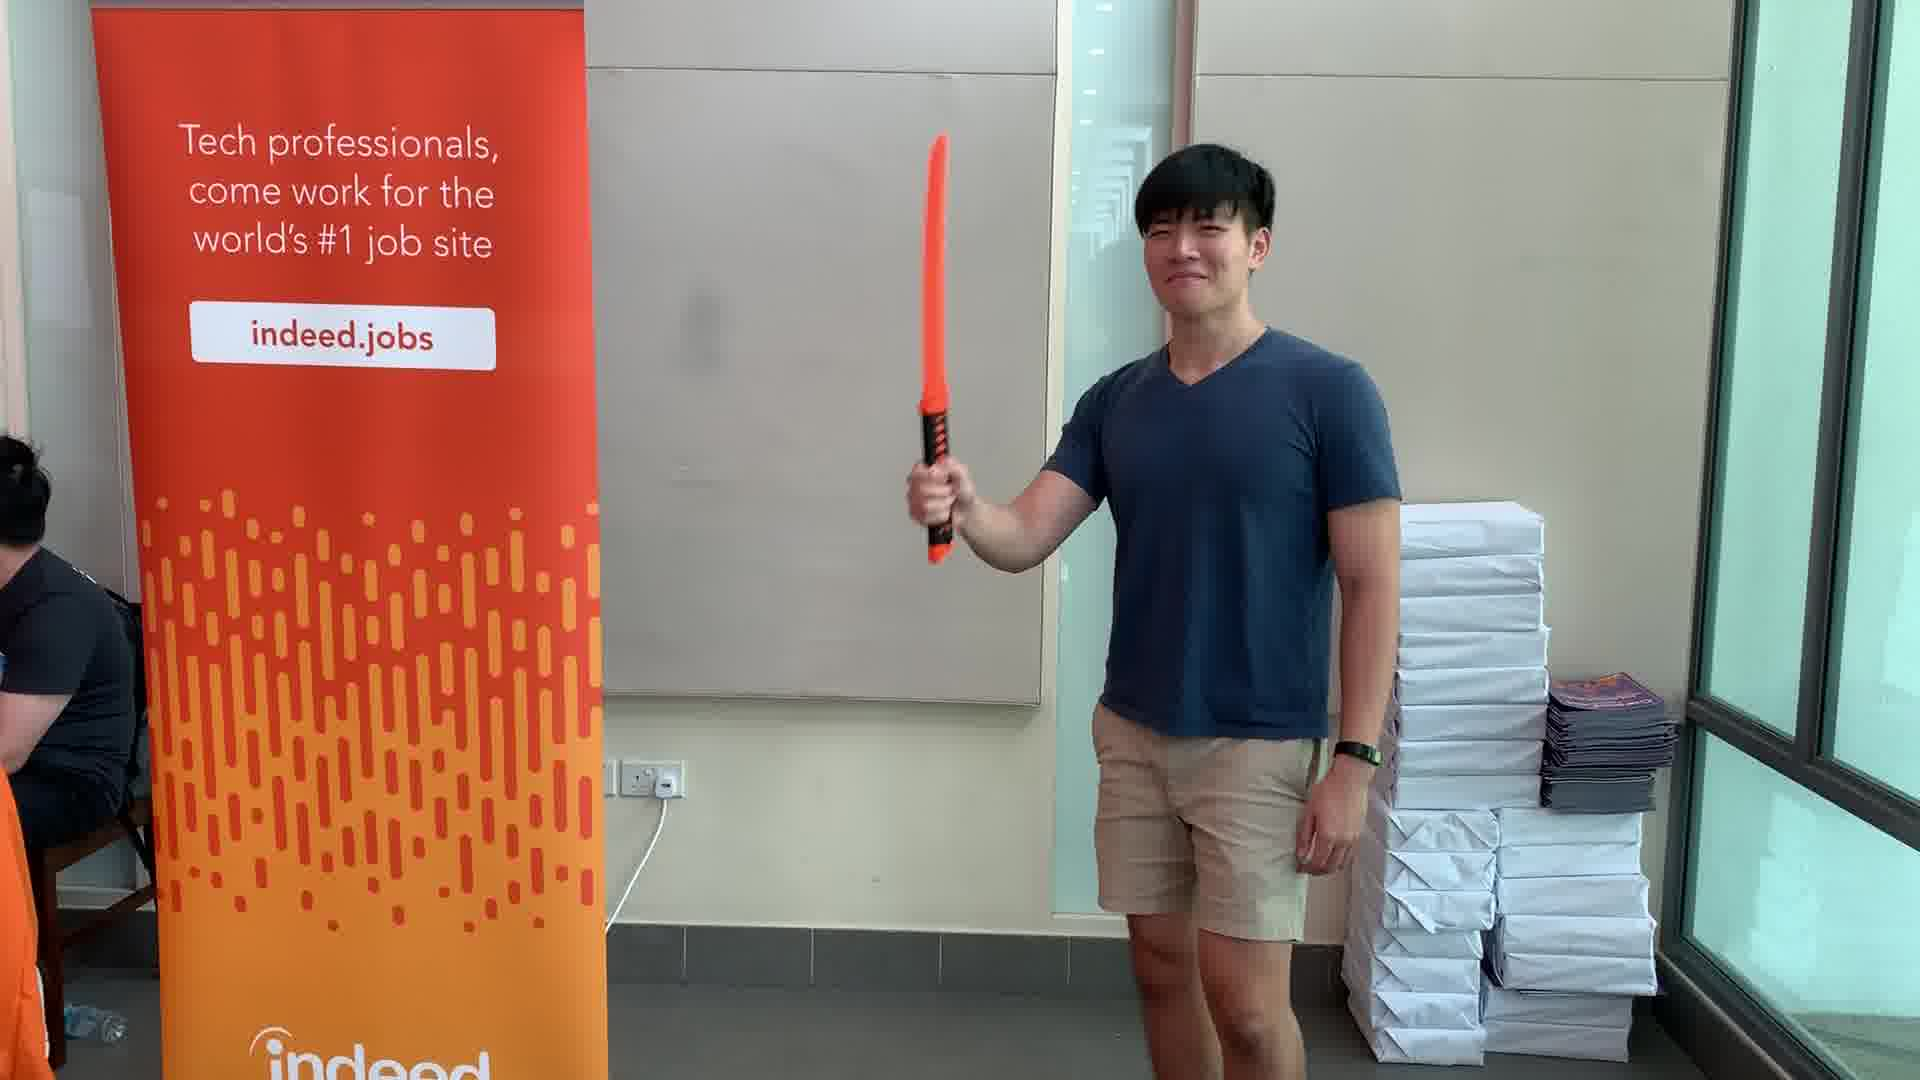knife: (914, 131, 967, 568)
